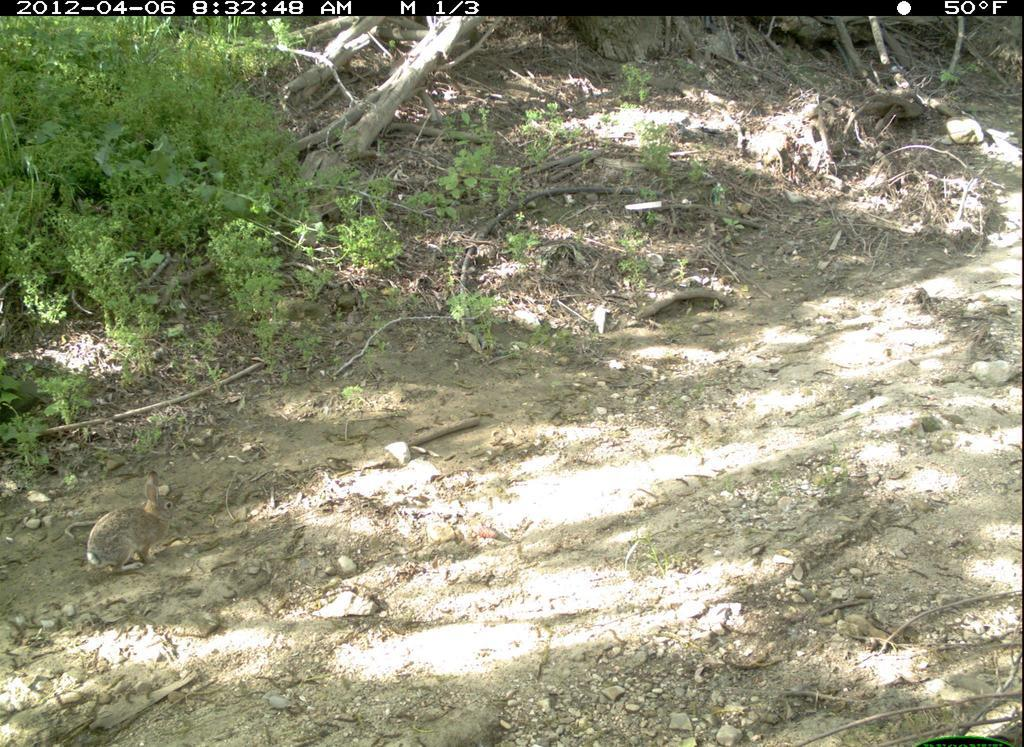rabbit: (77, 469, 207, 596)
